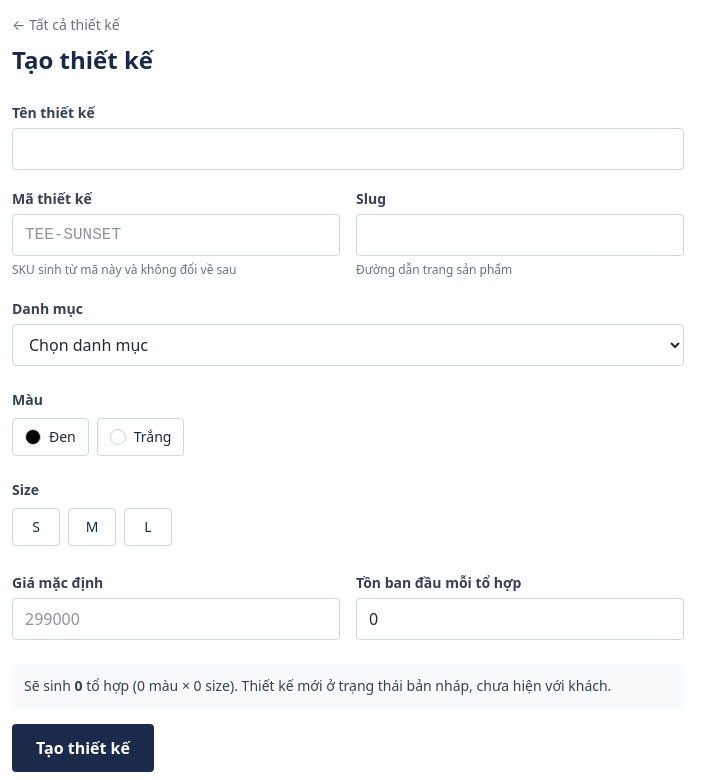
Test: AdminProductCreatePage › gợi ý slug từ tên, bỏ dấu tiếng Việt
The width and height of the screenshot is (701, 780).
Type "Áo thun Mùa Hè" into the field labelled "Tên thiết kế". click: [348, 149]
box: [12,128,684,170]
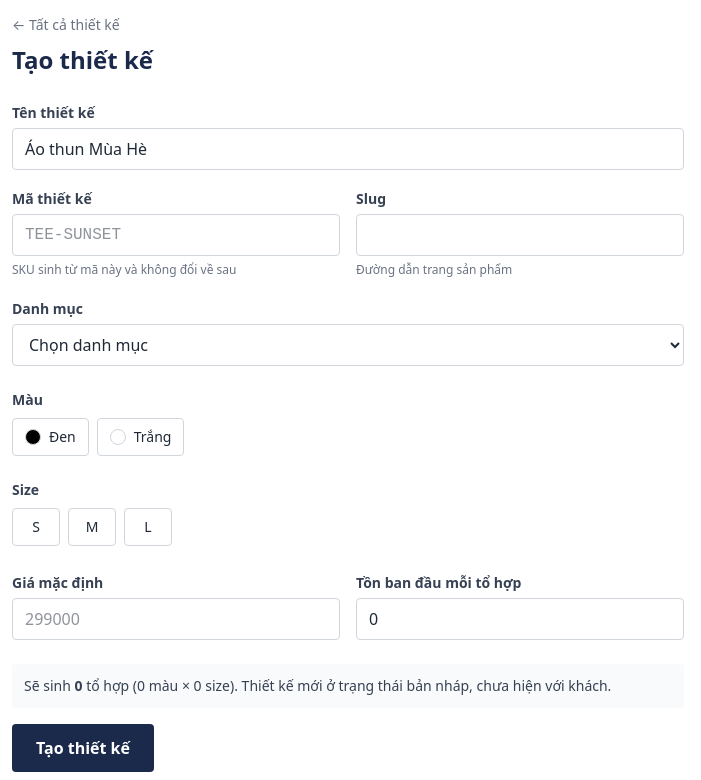
Leave the field labelled "Tên thiết kế", box [12,128,684,170]
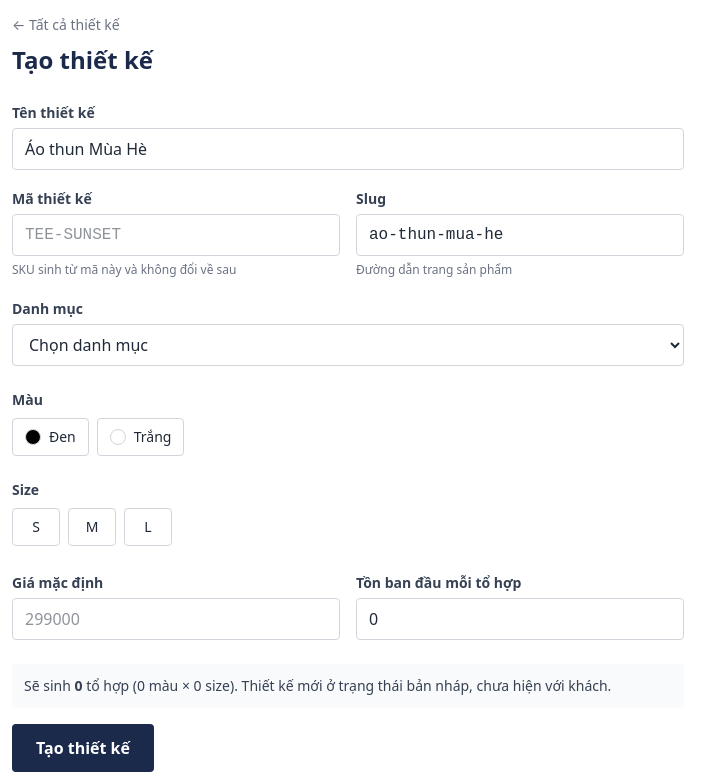
Expected: the field labelled "Slug Đường dẫn trang sản phẩm" holds "ao-thun-mua-he", [356,214,684,256]
